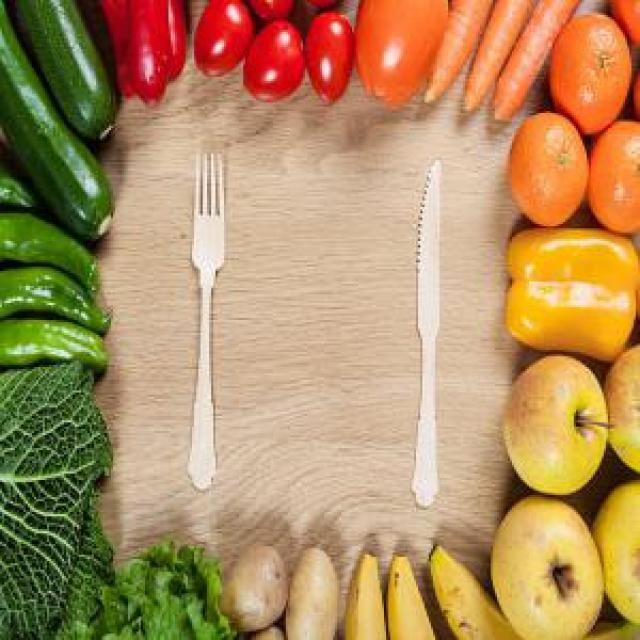knife: (408, 151, 449, 511)
